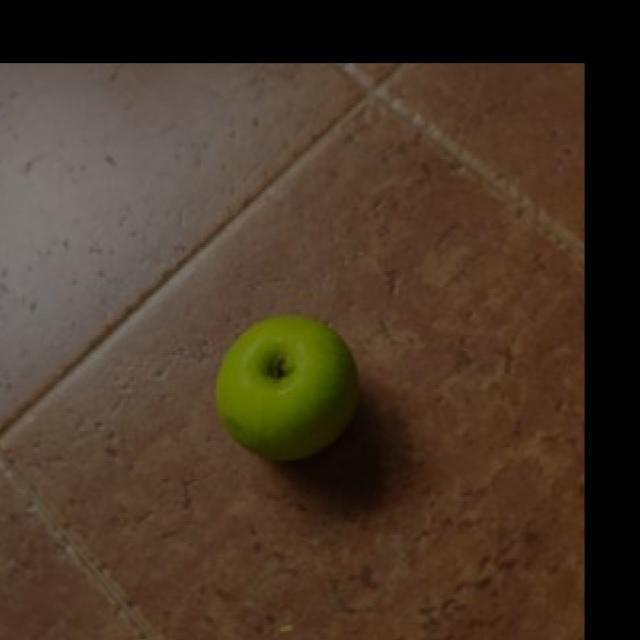green apple: (216, 314, 360, 464)
